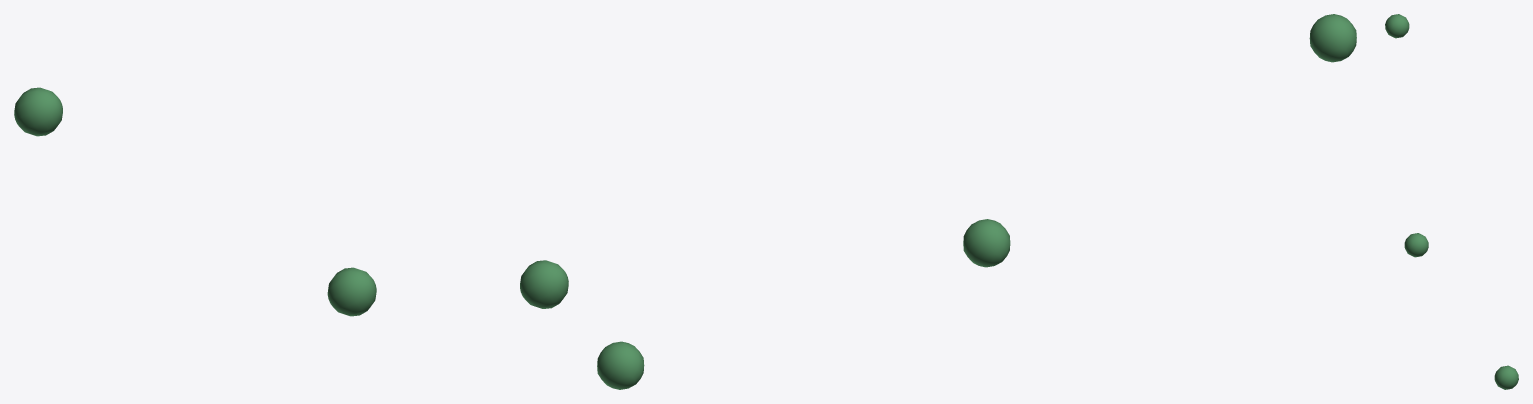
The picture shows the model from 3 angles, left to right: view 1: azimuth 30°, elevation 25°; view 2: azimuth 150°, elevation 25°; view 3: azimuth 270°, elevation 25°; orthographic projection. The views are drawn at different scales.
Visible parts, largest first — view 1: 中结肠淋巴结; view 2: 中结肠淋巴结; view 3: 中结肠淋巴结.
Part boxes in pixels (x1=…): 中结肠淋巴结: x1=14, y1=87, x2=568, y2=316; 中结肠淋巴结: x1=597, y1=14, x2=1356, y2=389; 中结肠淋巴结: x1=1385, y1=14, x2=1518, y2=389.
Bounding box in the file's own units: 0.0589 × 0.0382 × 0.0208.
